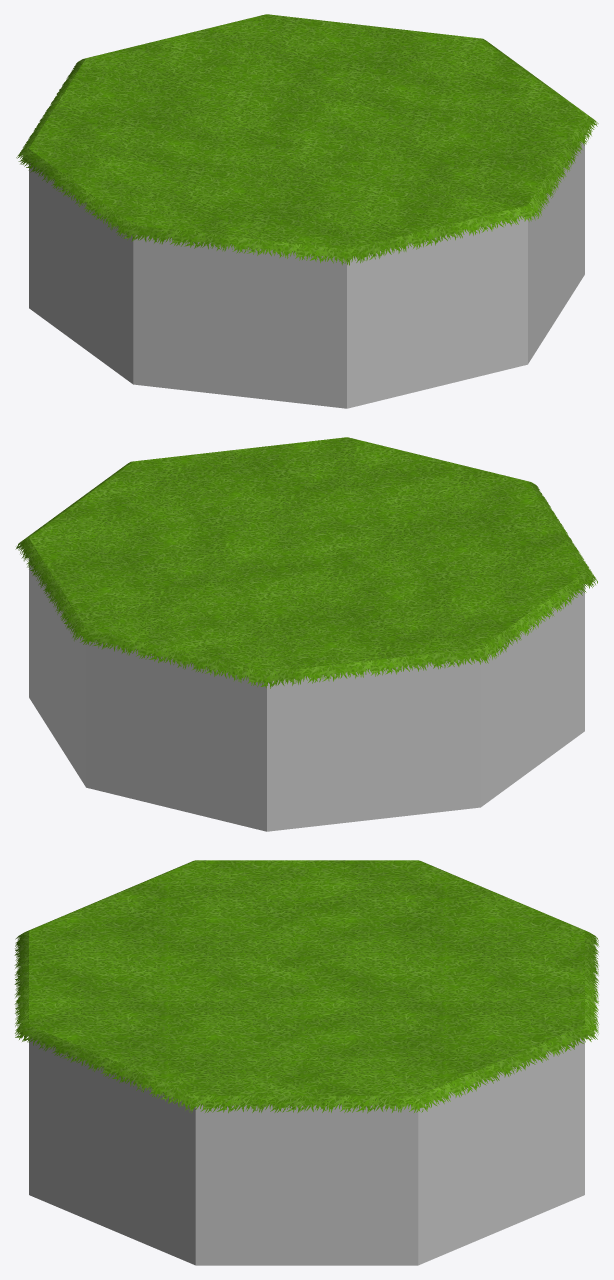
The model's file is SM_world_2_ground_00.fbx.
3 views of the same model, one above another, from view 1: azimuth 30°, elevation 25°; view 2: azimuth 150°, elevation 25°; view 3: azimuth 270°, elevation 25° (orthographic). The views are drawn at different scales.
Parts seen in each view (by area): view 1: Ground.004; view 2: Ground.004; view 3: Ground.004.
Boxes of the visible parts, x1,y1,x2,y2 form: Ground.004: (16, 14, 598, 408); Ground.004: (15, 437, 597, 831); Ground.004: (14, 860, 599, 1265).
Bounding box in the file's own units: 5267 × 5267 × 1686.
